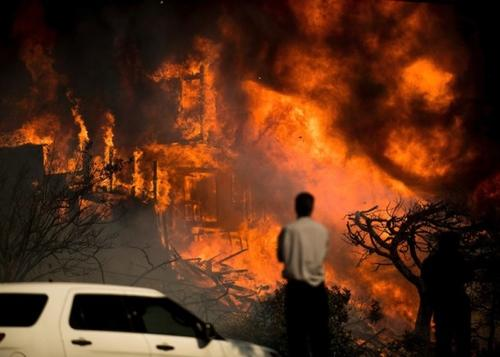fire: (257, 88, 368, 174), (388, 49, 450, 179), (162, 51, 223, 145)
